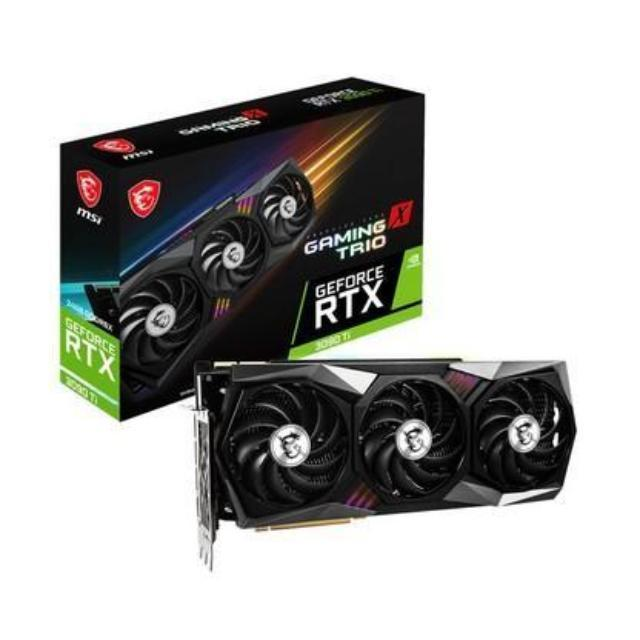GPU: (192, 354, 586, 537)
